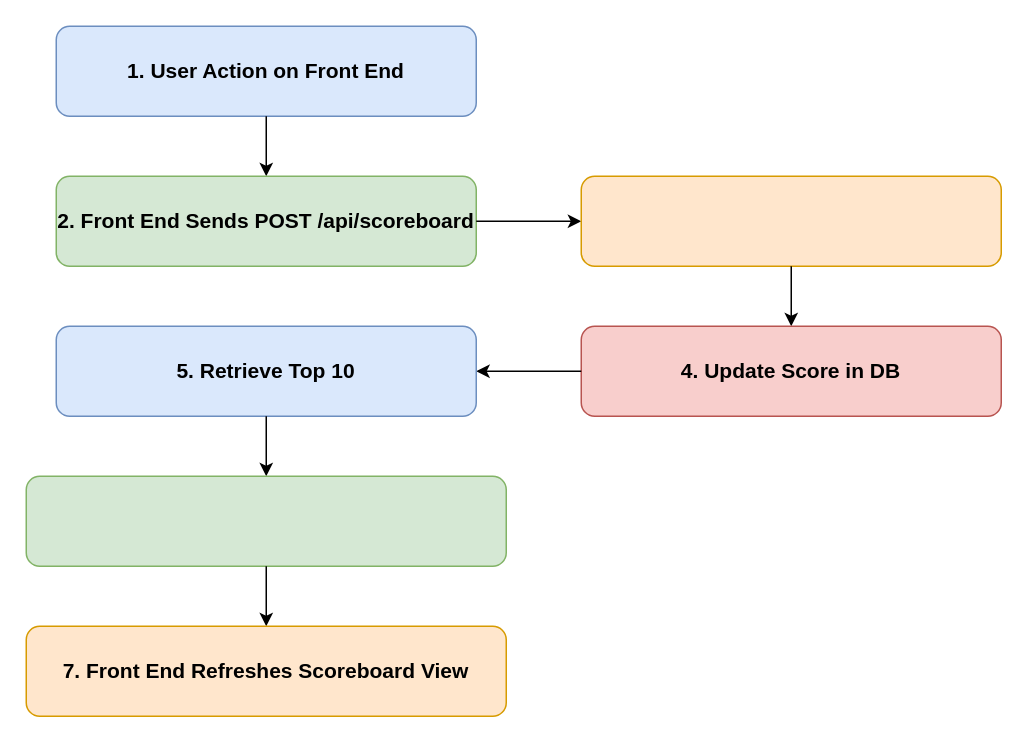
Image size: 1028x743. Some labels were removed from this diagram. The box of each missing label's shape, as (x1, y1, x2, y2) in pixels:
3. Backend Auth Check (Validate JWT): (580, 175, 1001, 266)
6. Return Updated Scoreboard to Front End: (25, 475, 506, 566)
